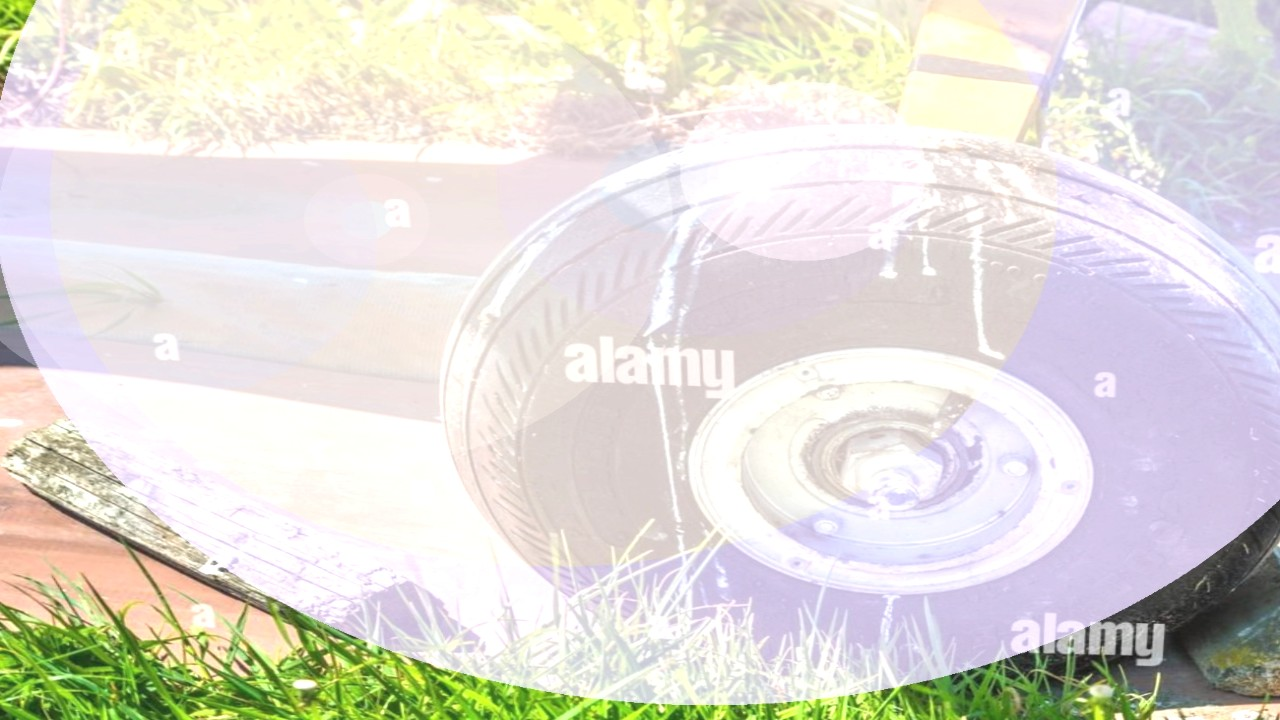chock: (0, 396, 471, 650), (1175, 512, 1280, 706)
wheel: (376, 99, 1280, 676)
